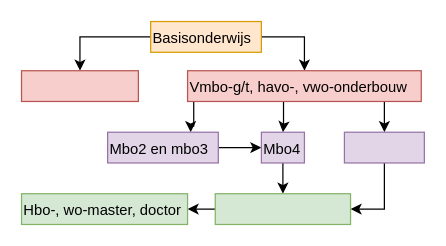
Some shapes in this 446 by 246 pixel diagram are drawn without their labels. The centre of each missing label's shape, as x and y in pixels:
"Havo, vwo" belongs at (x=383, y=147).
"Hbo-, wo-bachelor" belongs at (x=282, y=208).
"Vmbo-b/k, mbo1" belongs at (x=79, y=85).
